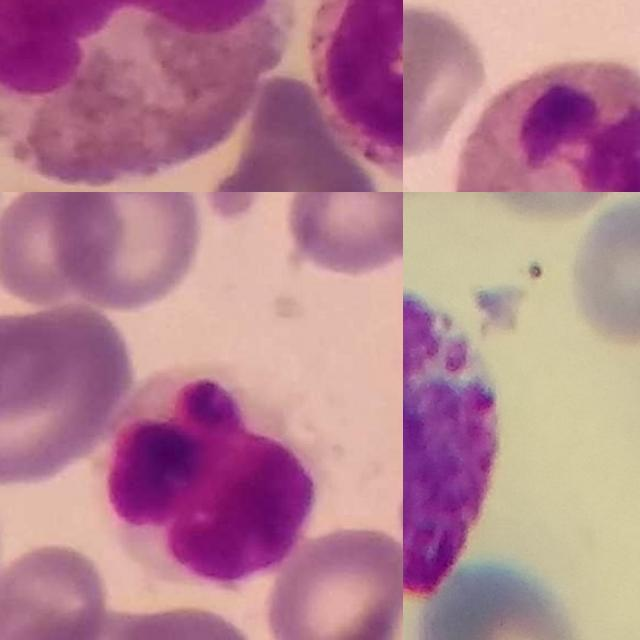Basophil: (403, 275, 501, 595)
Eosinophil: (0, 0, 292, 186)
Lymphocyte: (95, 363, 325, 589)
Monocyte: (305, 0, 403, 192)
Neutrophil: (451, 58, 640, 192)
